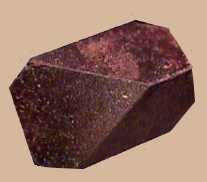magnetite: (10, 20, 193, 168)
